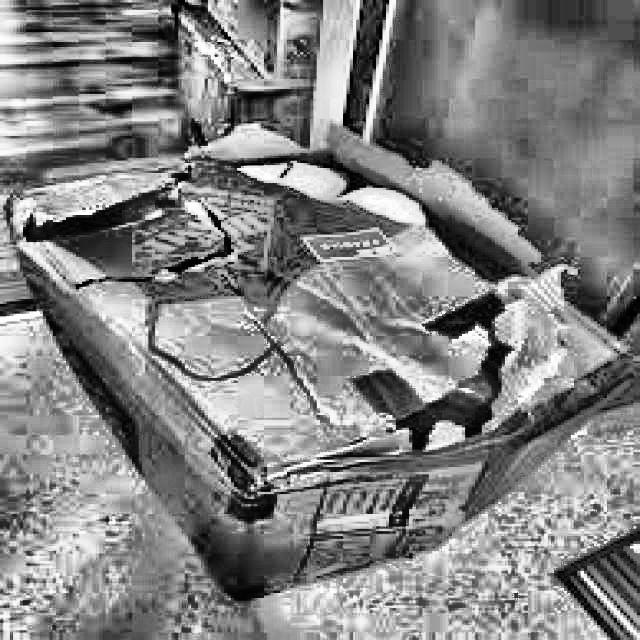box: (0, 146, 640, 571)
hole: (385, 253, 552, 430)
